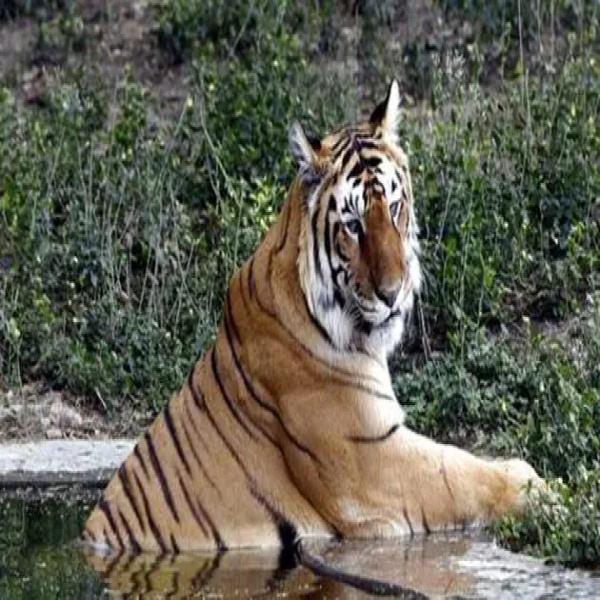Tiger: (74, 78, 557, 558)
